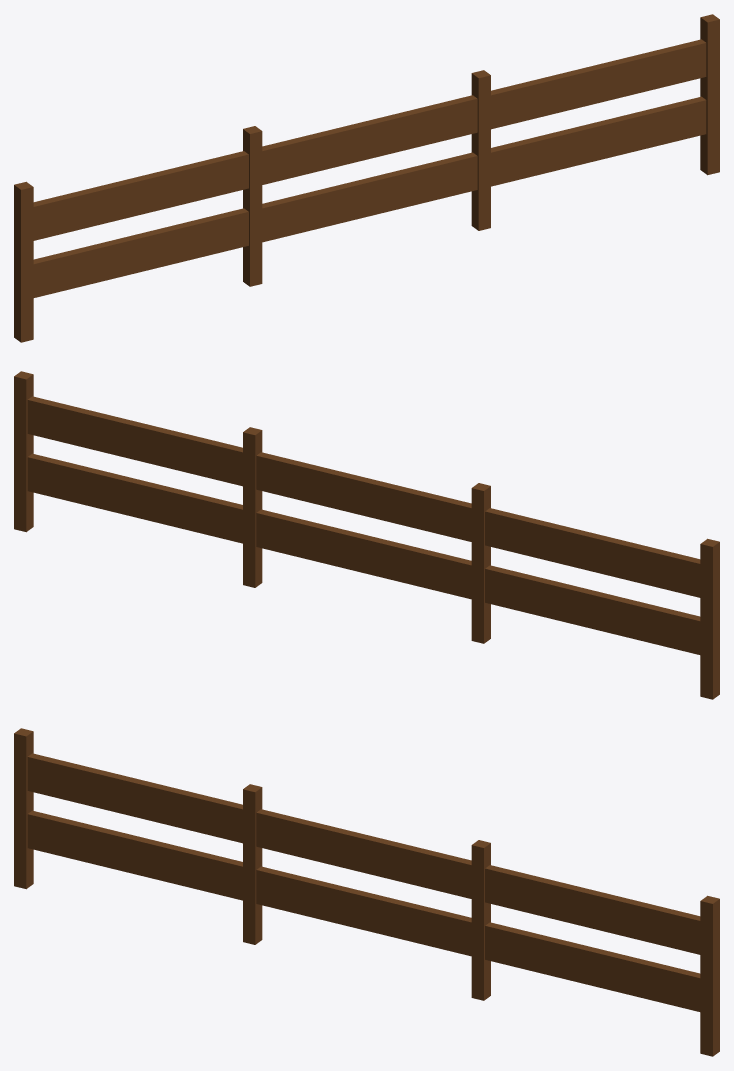
Rendered from Fence1.fbx.
3 views of the same model, one above another, from view 1: azimuth 30°, elevation 25°; view 2: azimuth 150°, elevation 25°; view 3: azimuth 330°, elevation 25° (orthographic).
Visible parts, largest first — view 1: Cube.001; view 2: Cube.001; view 3: Cube.001.
Part boxes in pixels (x1,y1,x2,y2): Cube.001: (14,14,719,342); Cube.001: (14,371,719,699); Cube.001: (14,728,719,1056).
Bounding box in the file's own units: 11283 × 2357 × 200.
